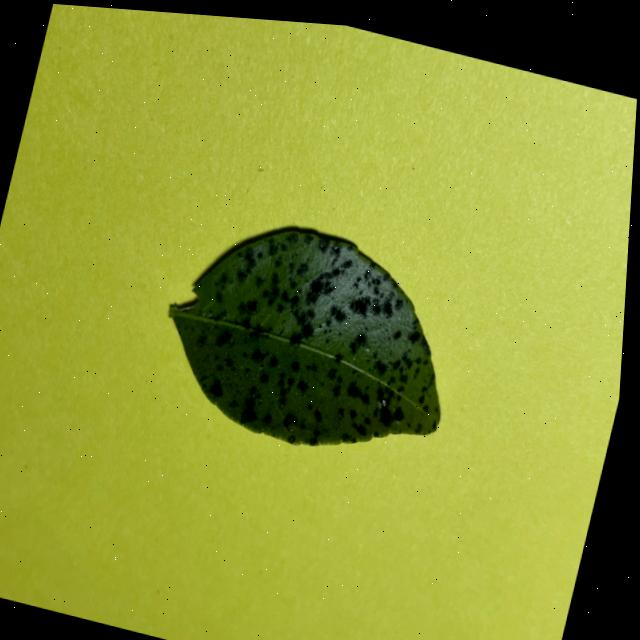sooty_mold: (168, 231, 439, 446)
